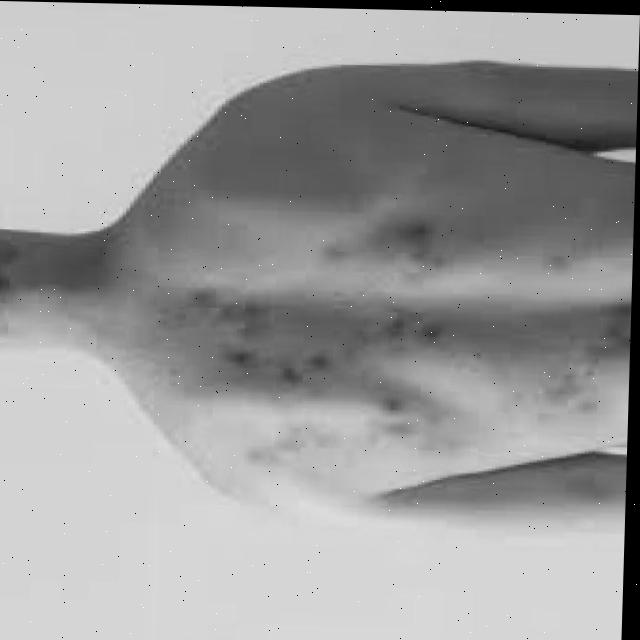Eczema: (199, 193, 634, 442)
